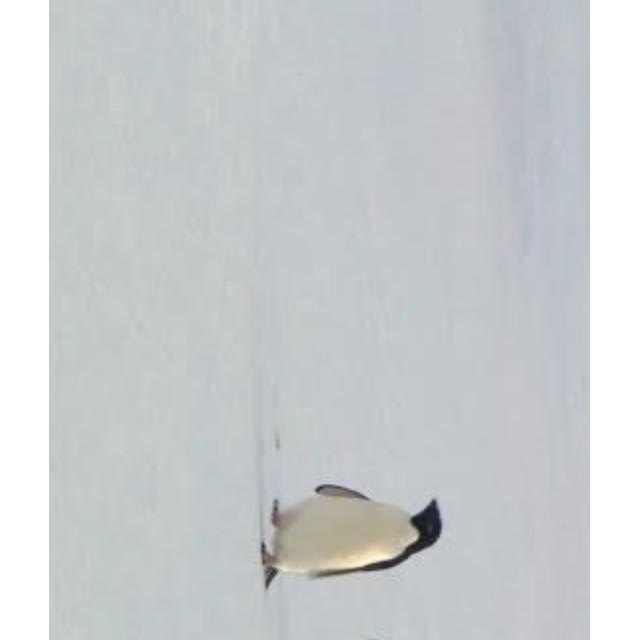penguin: (258, 483, 442, 592)
